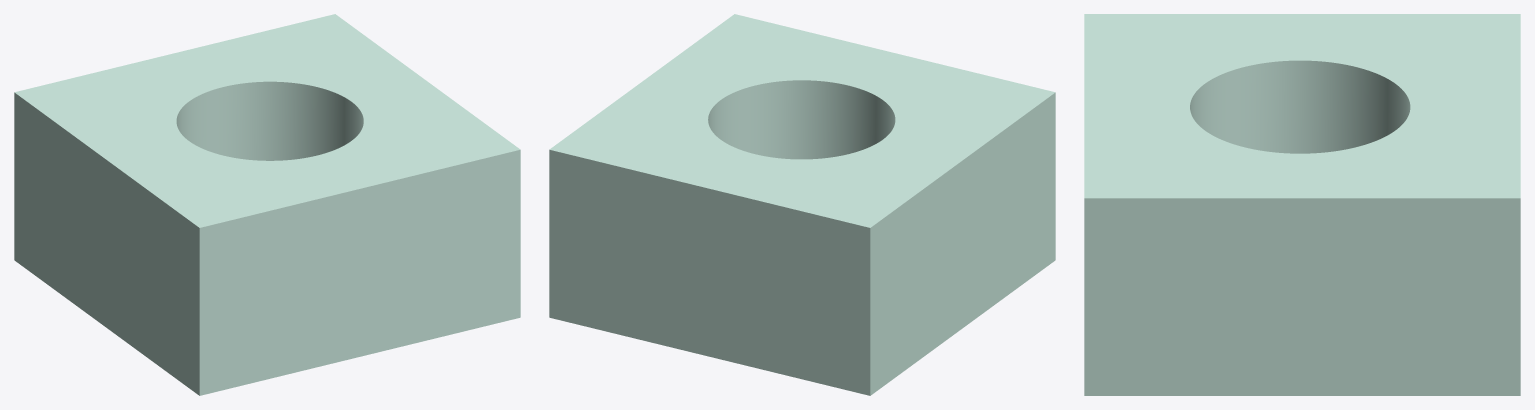
The picture shows the model from 3 angles, left to right: view 1: azimuth 30°, elevation 25°; view 2: azimuth 150°, elevation 25°; view 3: azimuth 270°, elevation 25°; orthographic projection. The views are drawn at different scales.
Parts seen in each view (by area): view 1: Renderer Node; view 2: Renderer Node; view 3: Renderer Node.
Part boxes in pixels (bbox=[...]): Renderer Node: bbox=[14, 14, 520, 395]; Renderer Node: bbox=[549, 14, 1055, 395]; Renderer Node: bbox=[1084, 14, 1520, 395].
Bounding box in the file's own units: 0.5 × 0.25 × 0.5.
